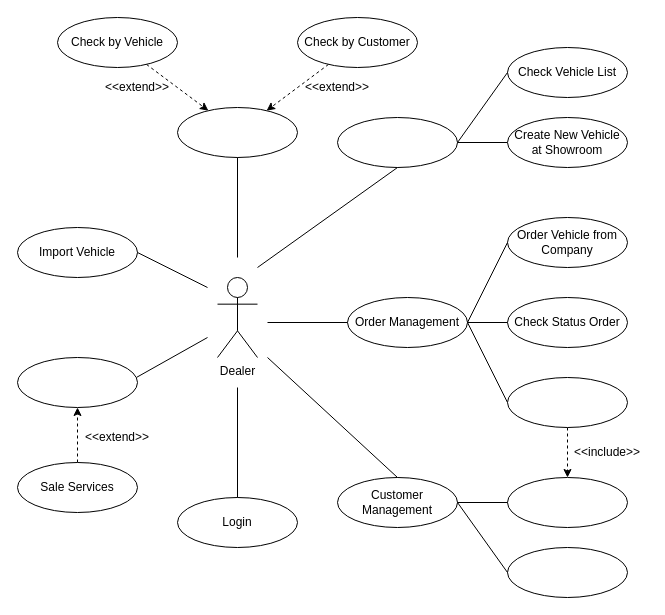
Some shapes in this 665 by 615 pixel diagram are drawn without their labels. The centre of each missing label's shape, as x and y in pixels:
"Add New Customer" belongs at point 567,502.
"Add New Order of Customer" belongs at point 567,402.
"Check Customer List" belongs at point 567,572.
"Report Revenue" belongs at point 237,132.
"Sale Vehicle" belongs at point 77,382.
"Vehicle Management" belongs at point 397,142.
